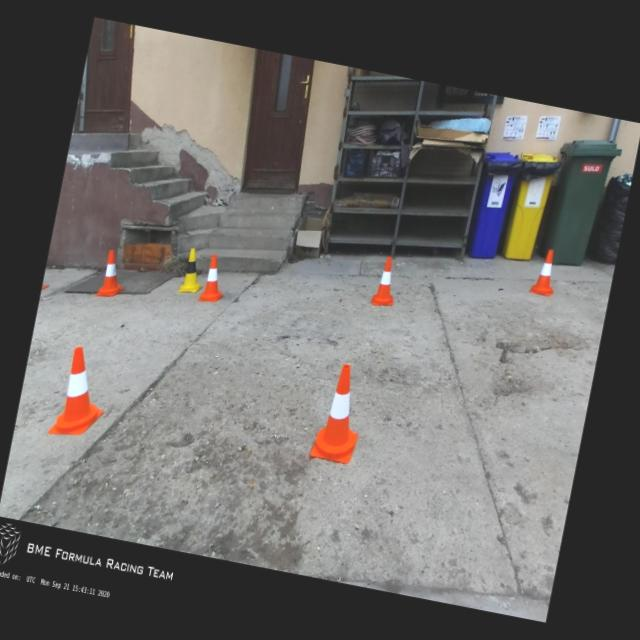orange_cone: (48, 344, 115, 443), (310, 361, 370, 465), (96, 248, 131, 300), (198, 253, 231, 306), (370, 255, 402, 309), (529, 247, 561, 297)
yellow_cone: (178, 247, 209, 296)
